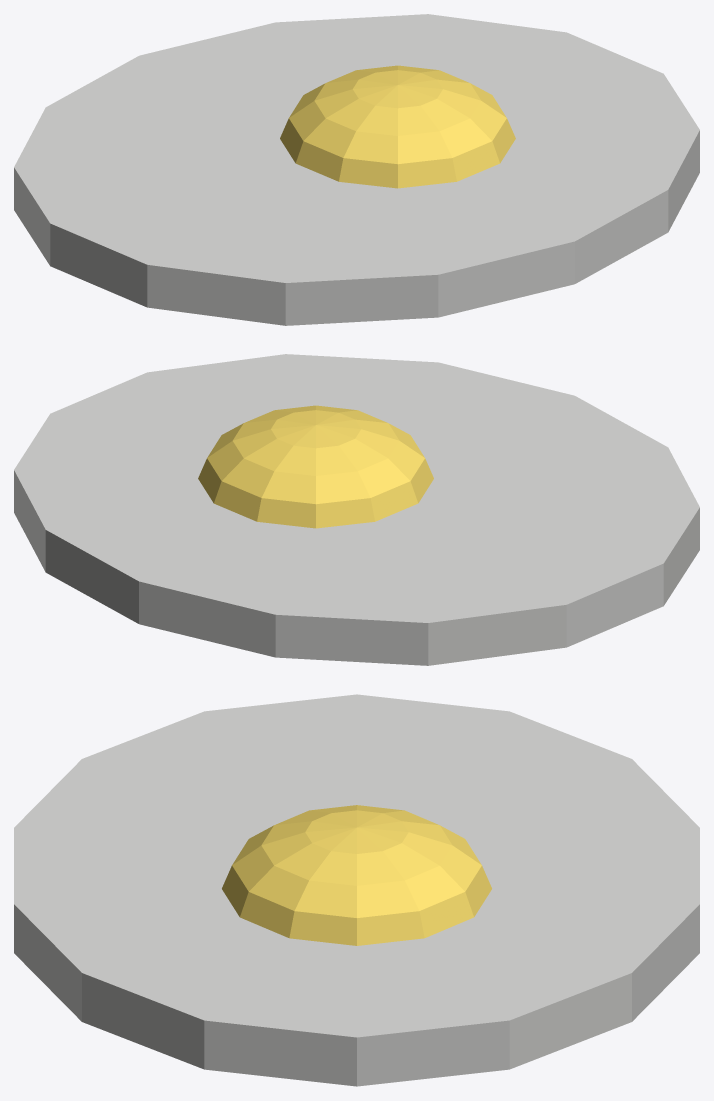
File: fried_egg_held.gltf
The picture shows the model from 3 angles, top to bottom: view 1: azimuth 30°, elevation 25°; view 2: azimuth 150°, elevation 25°; view 3: azimuth 270°, elevation 25°; orthographic projection. The views are drawn at different scales.
Visible parts, largest first — view 1: animals_fried_egg_held; view 2: animals_fried_egg_held; view 3: animals_fried_egg_held.
Part boxes in pixels (x1,y1,x2,y2): animals_fried_egg_held: (14,14,699,325); animals_fried_egg_held: (14,354,699,665); animals_fried_egg_held: (14,694,699,1086).
Size of the model in its own units: 0.15 by 0.025 by 0.1267.
